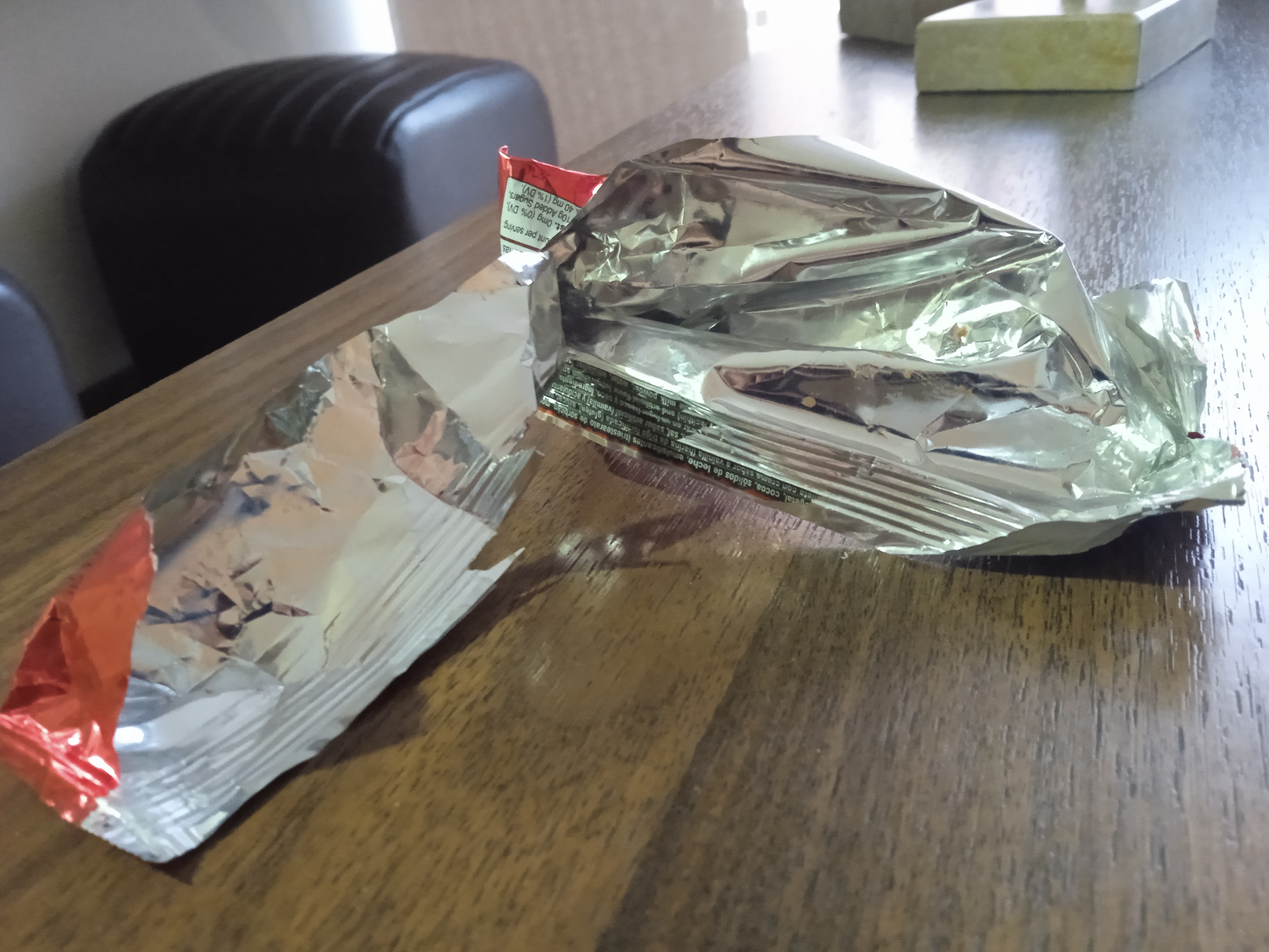plastic: (0, 120, 1269, 858)
